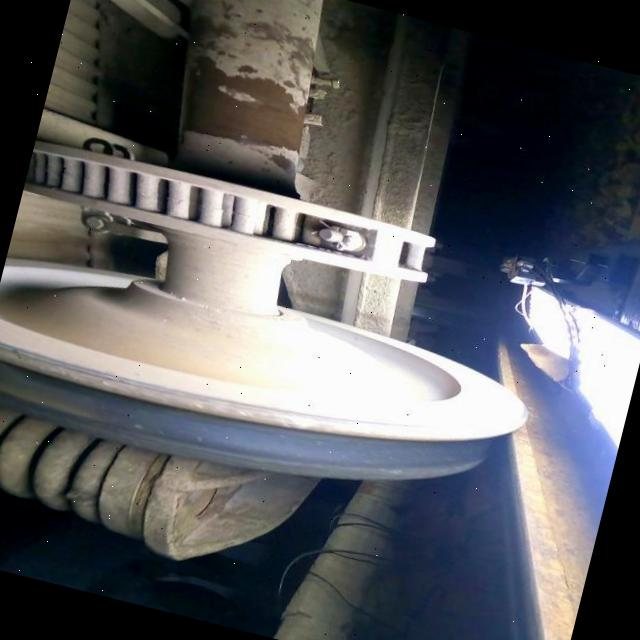Cracks-Scratches: (280, 412, 316, 429)
Shelling: (0, 362, 95, 419)
Wheel: (0, 259, 527, 478)
